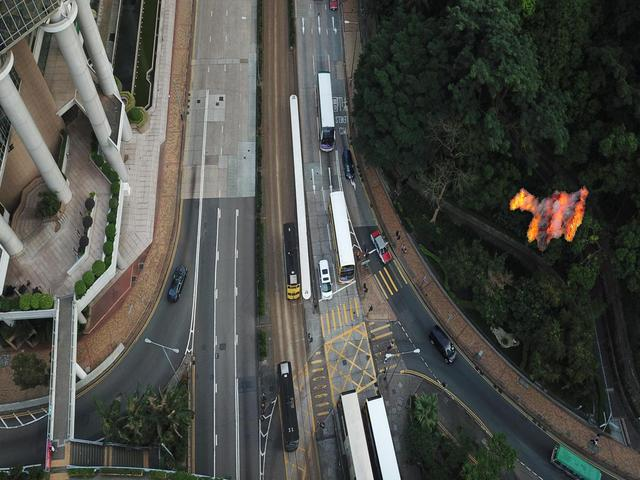fire: (508, 184, 589, 251)
